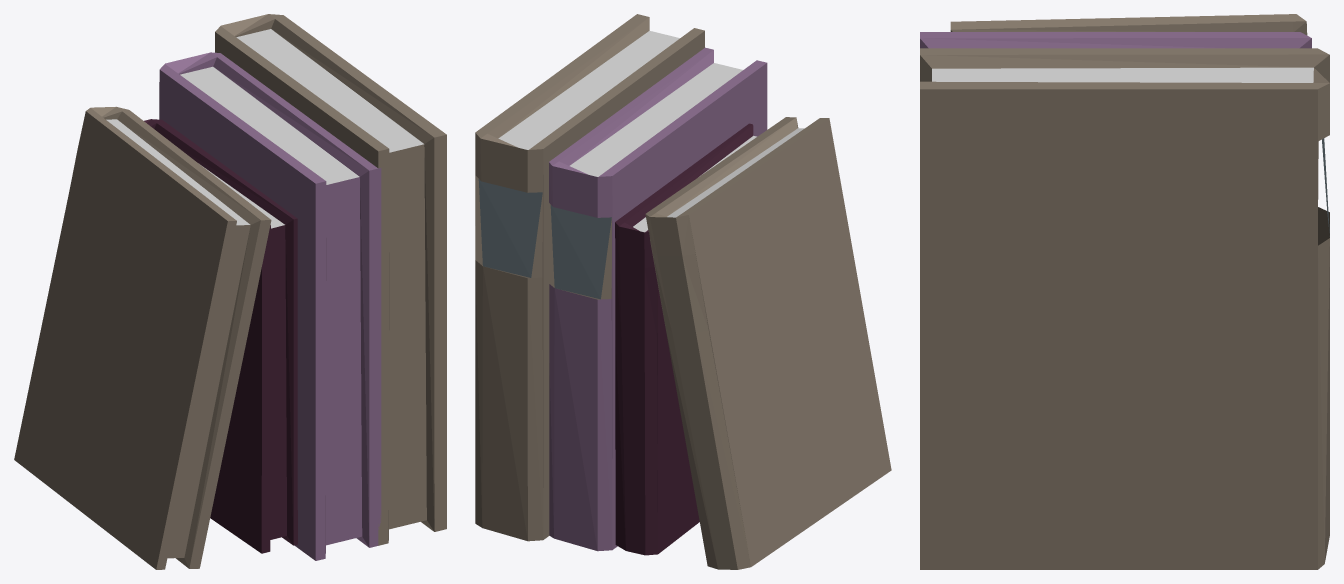
The model's file is 3_books.glb.
The picture shows the model from 3 angles, left to right: view 1: azimuth 30°, elevation 25°; view 2: azimuth 150°, elevation 25°; view 3: azimuth 270°, elevation 25°; orthographic projection. The views are drawn at different scales.
Visible parts, largest first — view 1: 3_books; view 2: 3_books; view 3: 3_books.
Part boxes in pixels (x1,y1,x2,y2): 3_books: [14, 14, 446, 569]; 3_books: [475, 14, 891, 569]; 3_books: [920, 14, 1329, 569].
Size of the model in its own units: 0.2068 by 0.2847 by 0.22.
